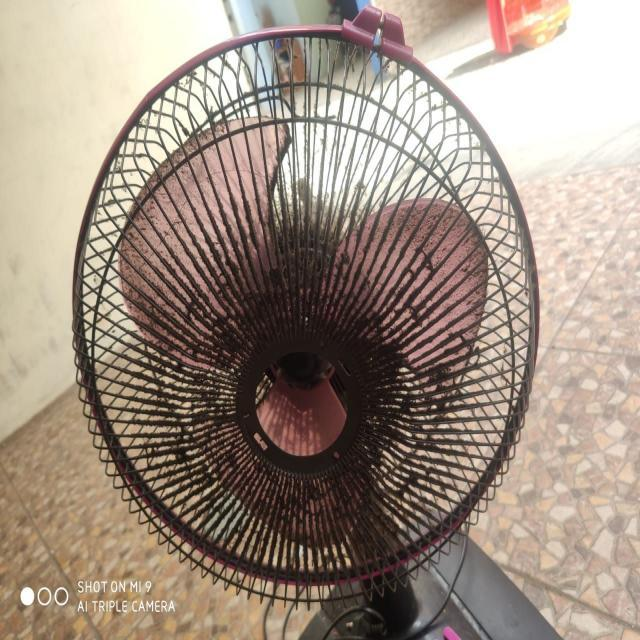fan: (62, 37, 542, 624)
